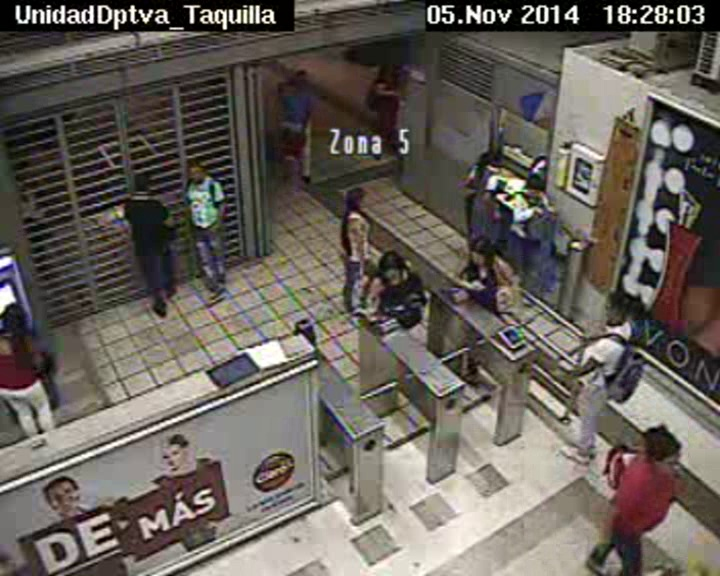person: (638, 424, 680, 471), (373, 249, 409, 287), (603, 291, 637, 328), (466, 234, 498, 267), (2, 301, 31, 335), (128, 167, 155, 196), (184, 158, 211, 185), (343, 186, 368, 213), (480, 144, 504, 169), (289, 66, 311, 89), (525, 172, 545, 195), (378, 60, 398, 81)
